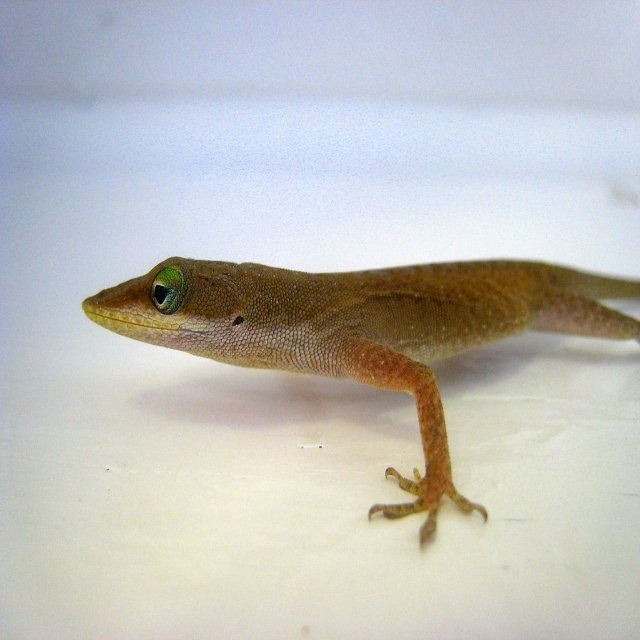Lizard: (82, 256, 640, 550)
